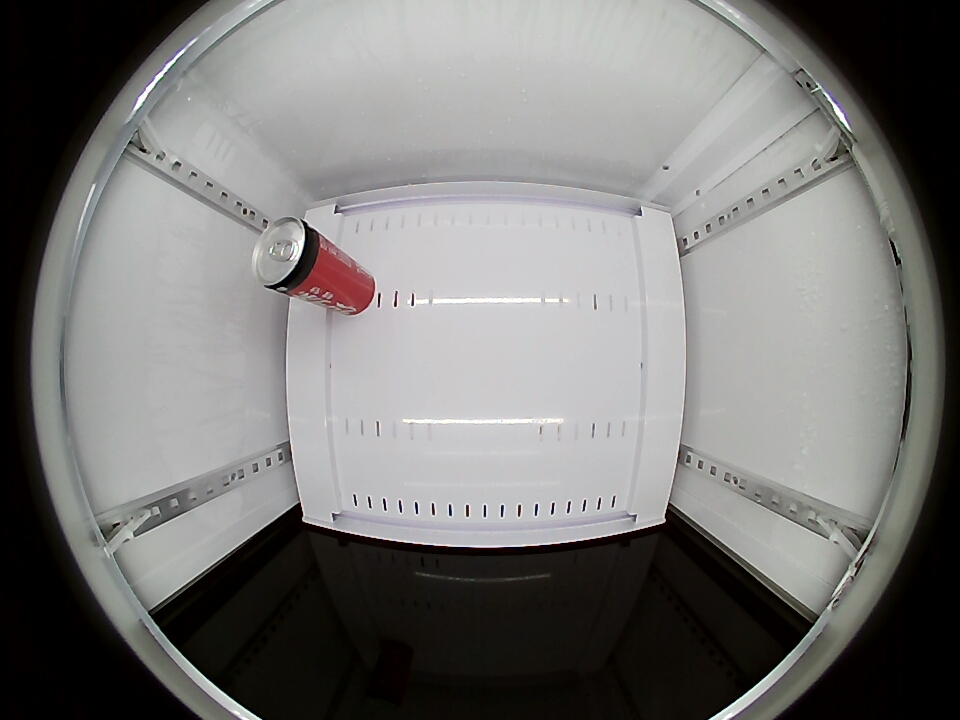lingdukele: (252, 216, 327, 296)
